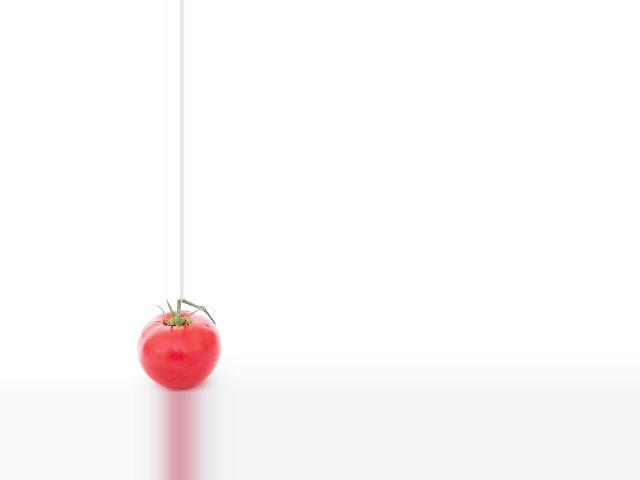tomato: (135, 311, 220, 389)
